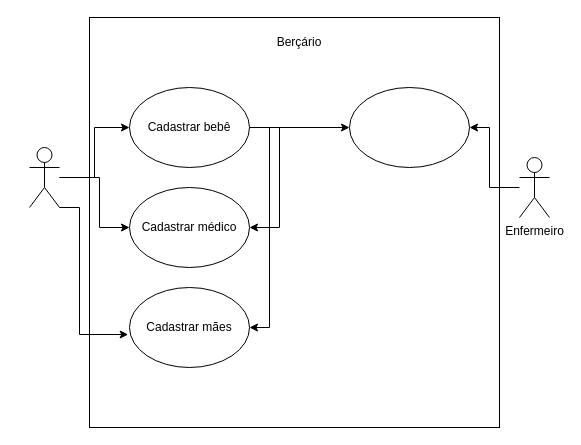
This 581x445 diagram has some shape labels left out. Here are the shapes that lost their labels. From the top down, the centre of each, then its label:
At (x=409, y=127): "Controlar medicamentos".
At (x=44, y=177): "Atendente".
